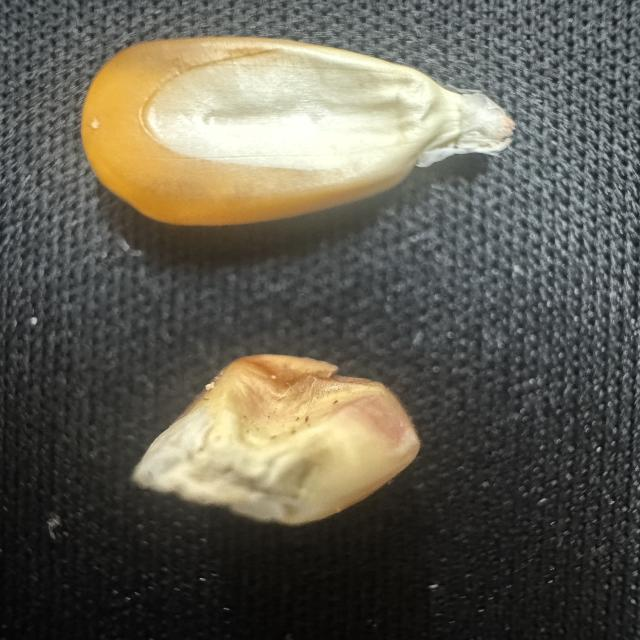Bad-Seed: (132, 345, 436, 549)
Good-Seed: (75, 26, 519, 257)
